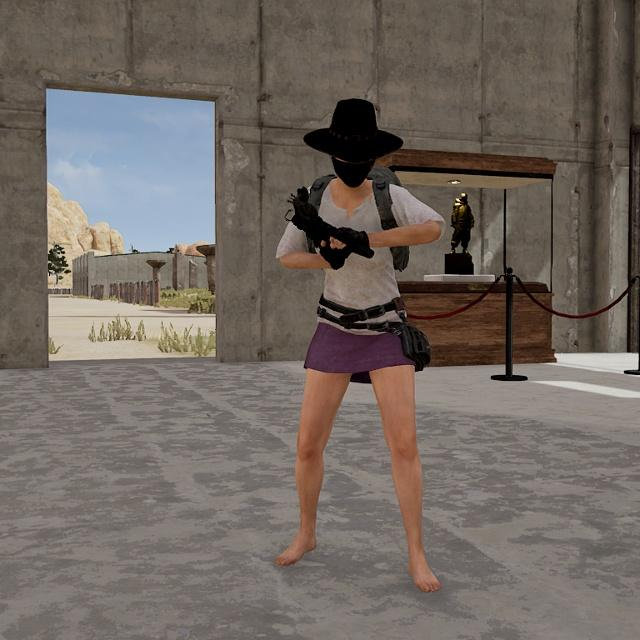head: (323, 101, 387, 189)
people: (268, 93, 449, 597)
